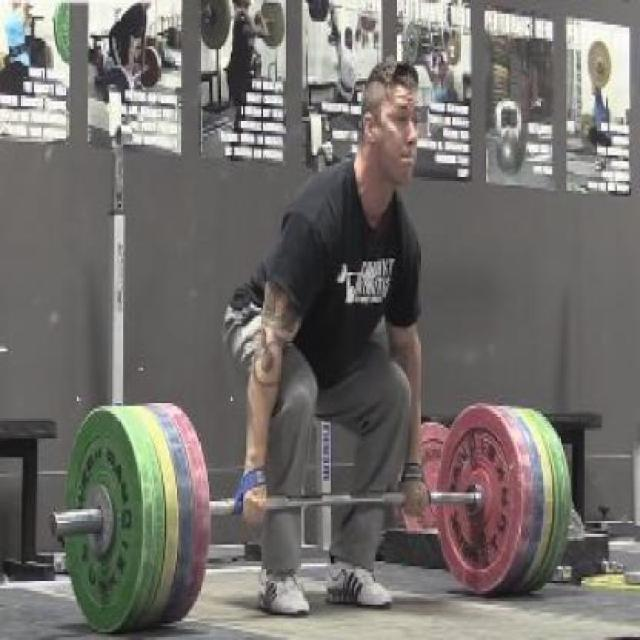barbell: (49, 401, 178, 639), (429, 398, 551, 601)
